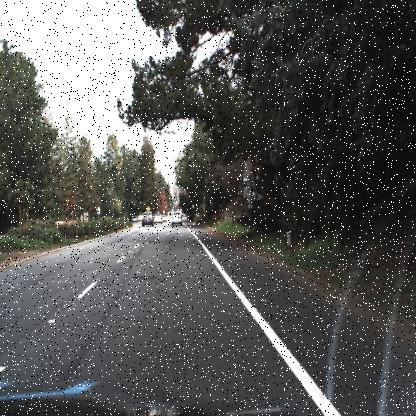car: (138, 207, 157, 230), (168, 207, 184, 229), (153, 209, 164, 227)
